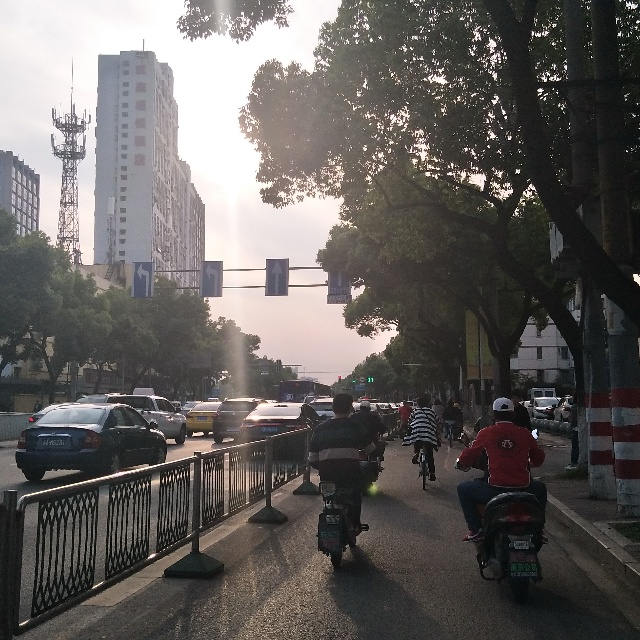left: (200, 261, 223, 296), (131, 262, 154, 296)
straight: (266, 259, 288, 295)
